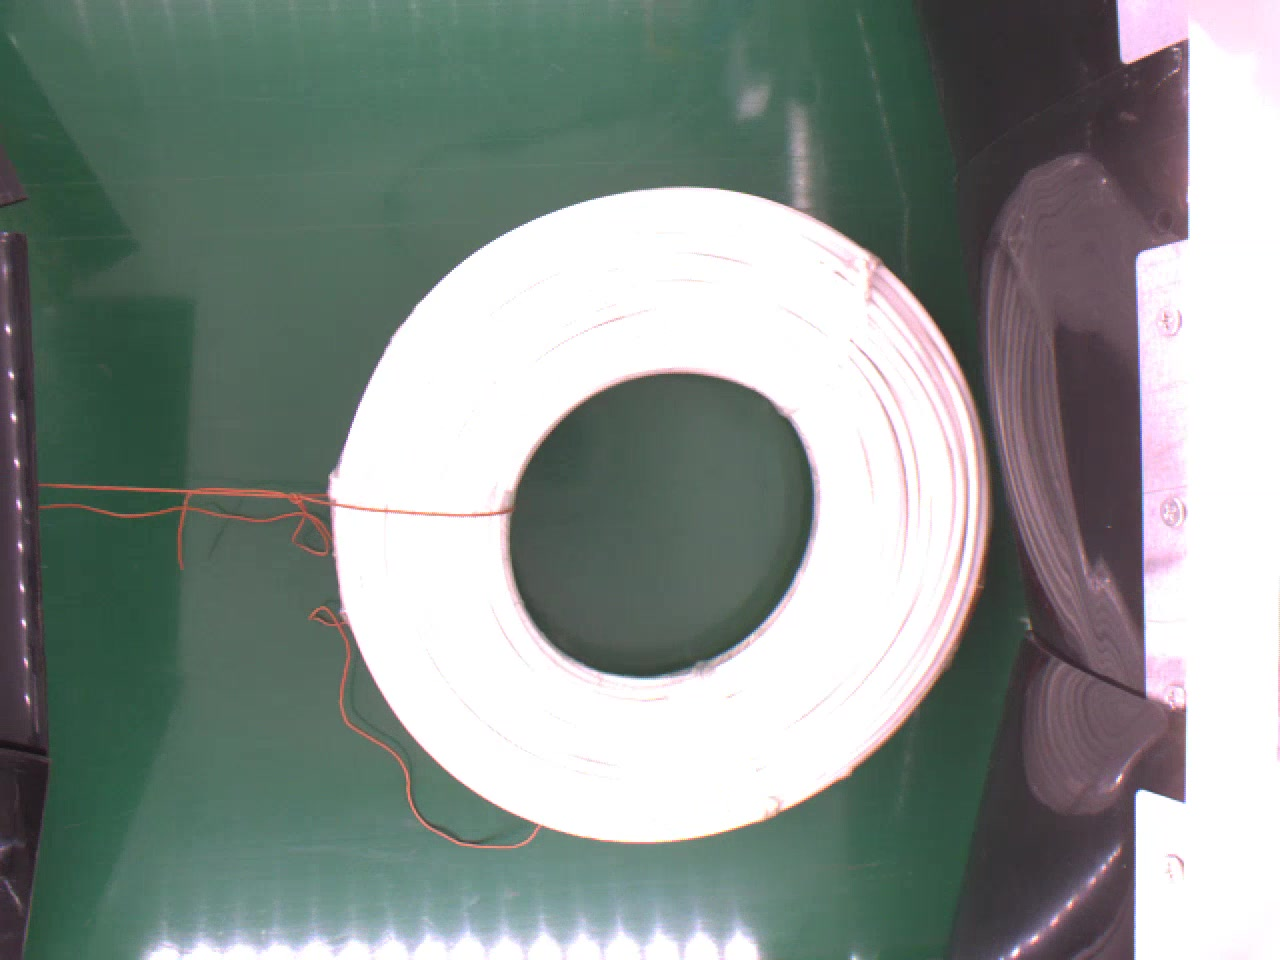white: (322, 189, 1003, 854)
